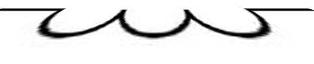inductor: (33, 0, 274, 43)
